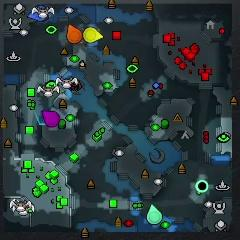p1: (28, 5, 49, 22)
p2: (147, 204, 163, 225)
p2Clone: (195, 179, 209, 193)
p3: (41, 110, 59, 127)
p4: (83, 28, 104, 43)
p5: (66, 25, 83, 44)
